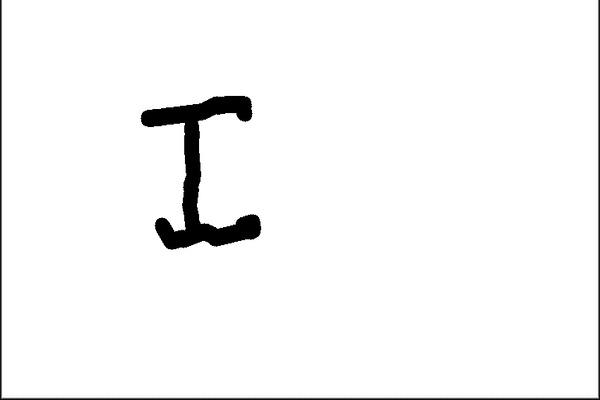i: (131, 91, 267, 254)
